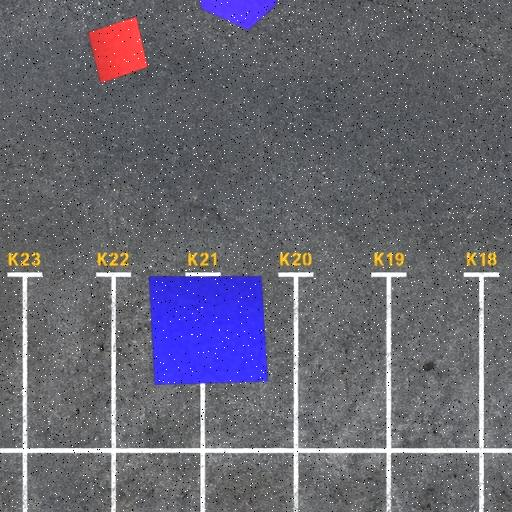BLUE_SQUARE: (149, 275, 269, 386)
RED_SQUARE: (87, 16, 149, 85)
